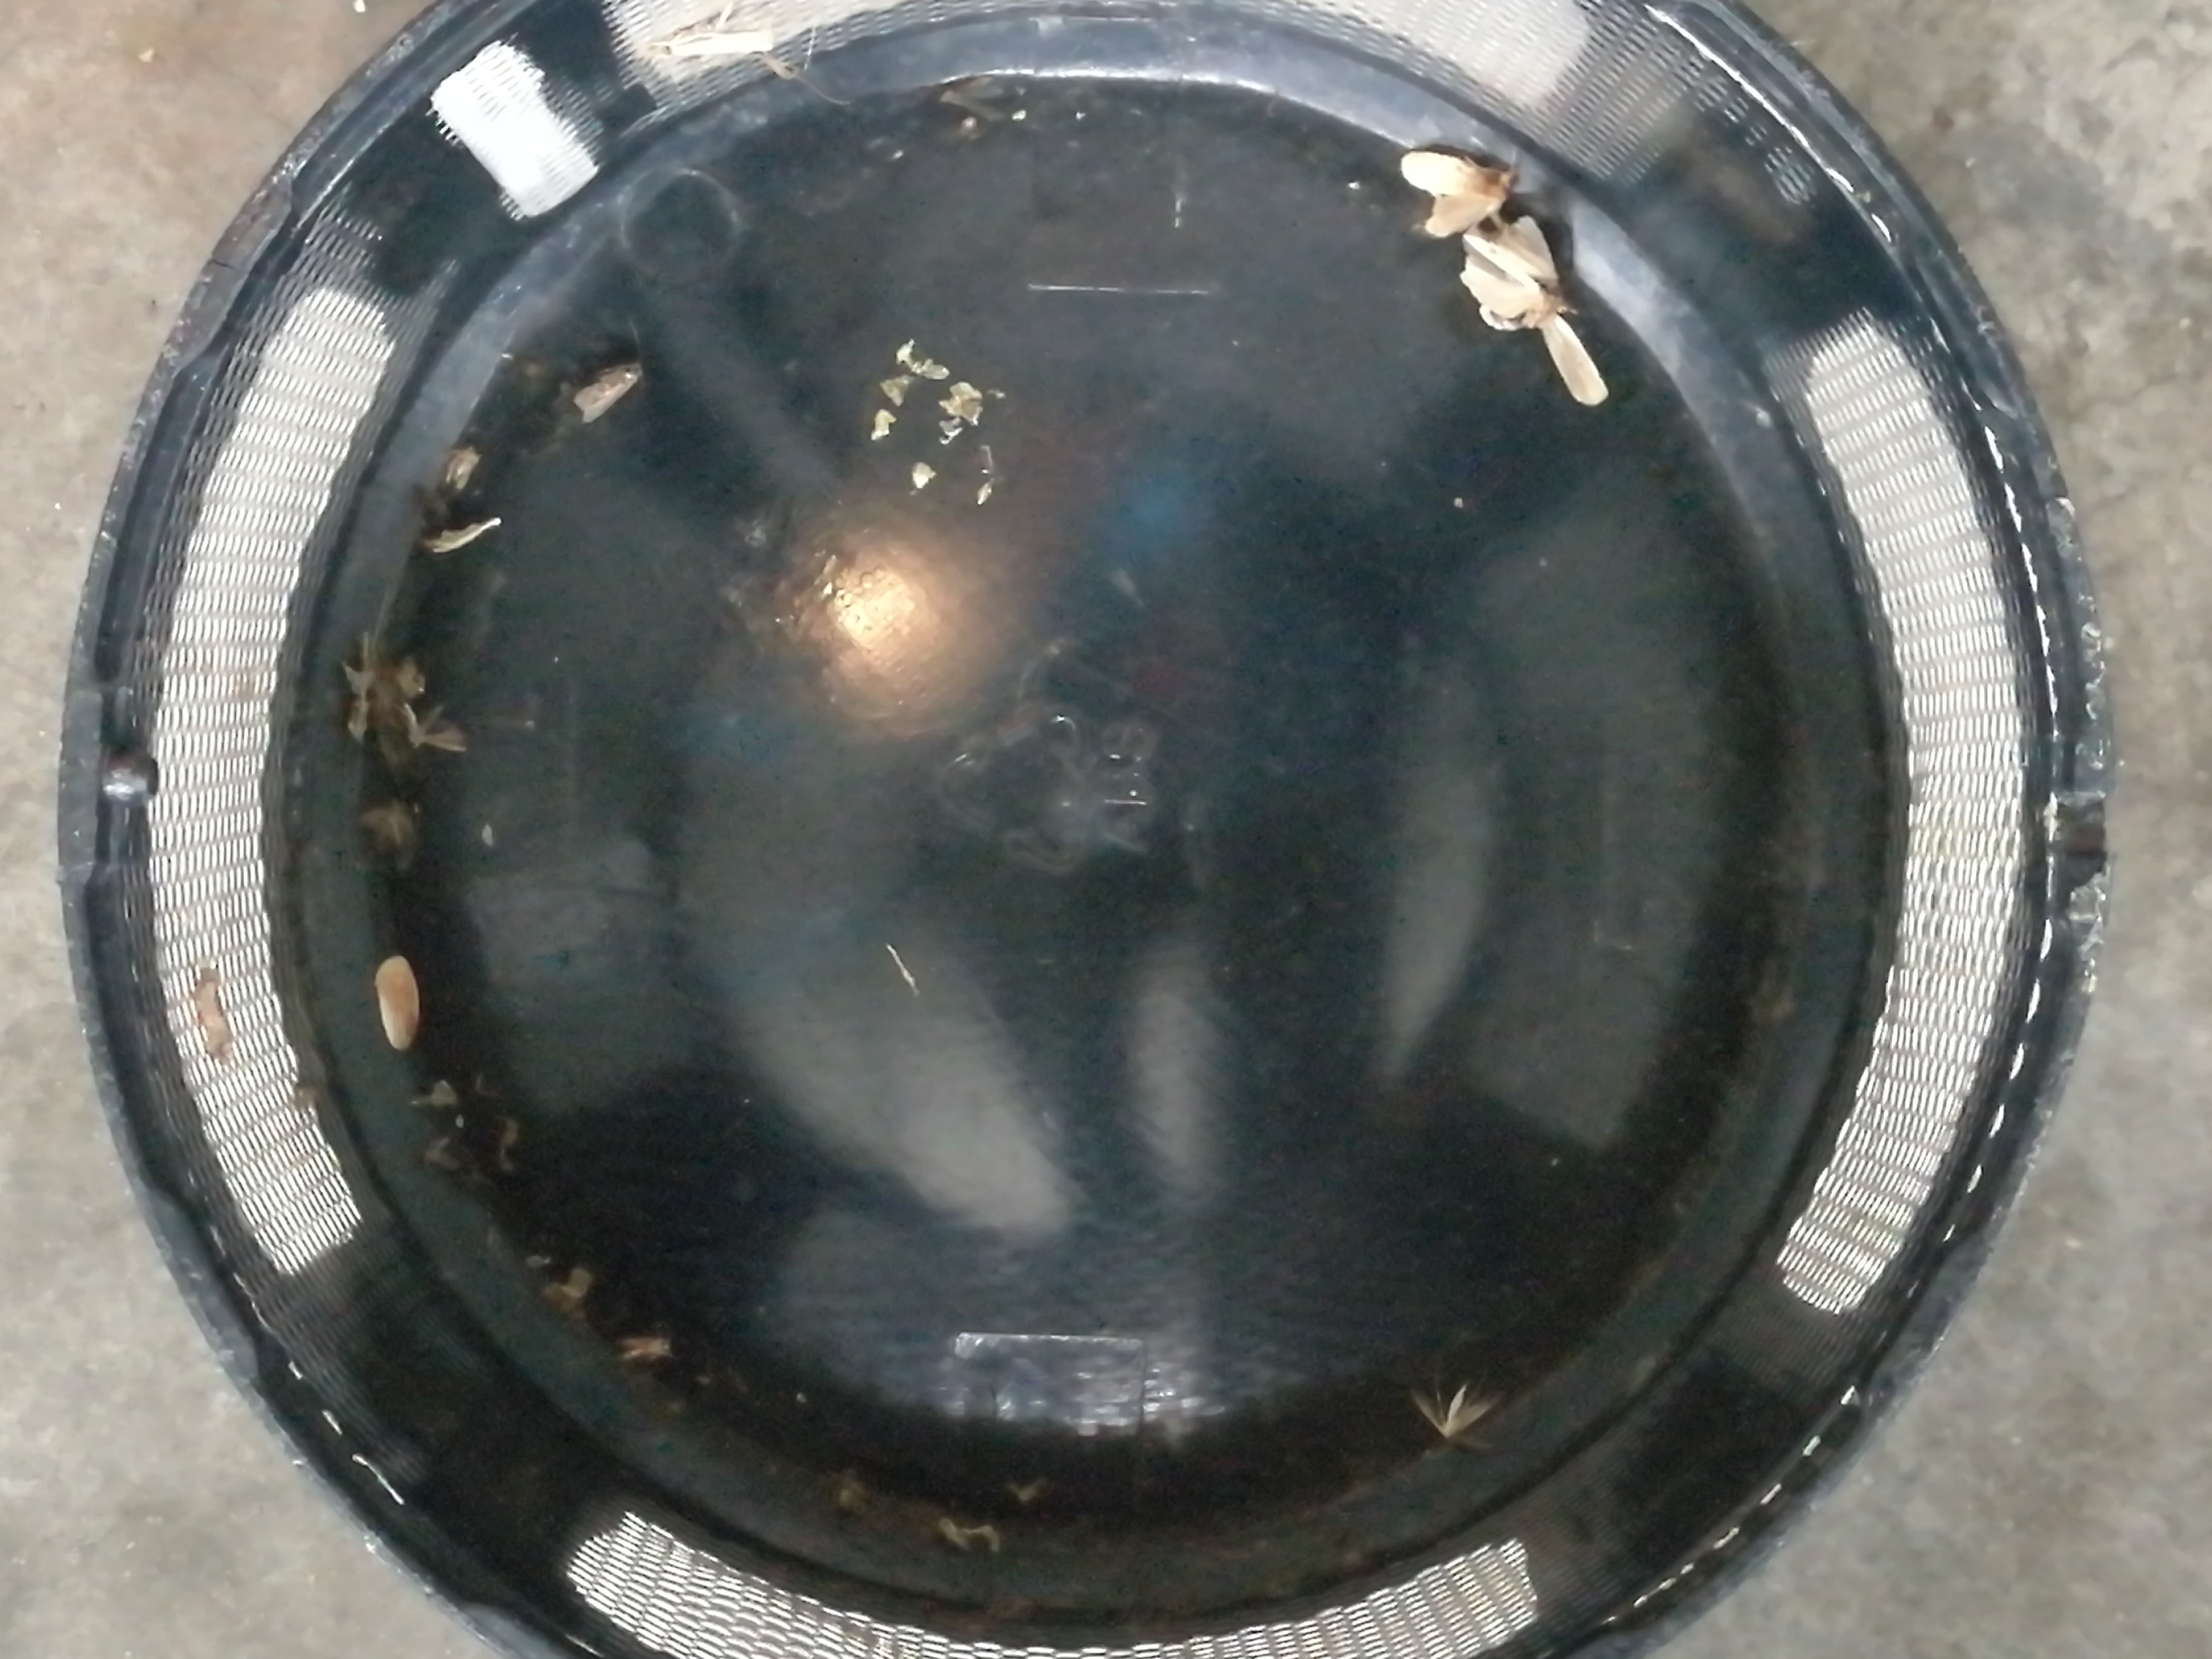mosquito: (575, 364, 643, 423), (669, 28, 770, 58), (199, 967, 230, 1051)
moth: (1461, 216, 1606, 403), (1400, 150, 1505, 234)
